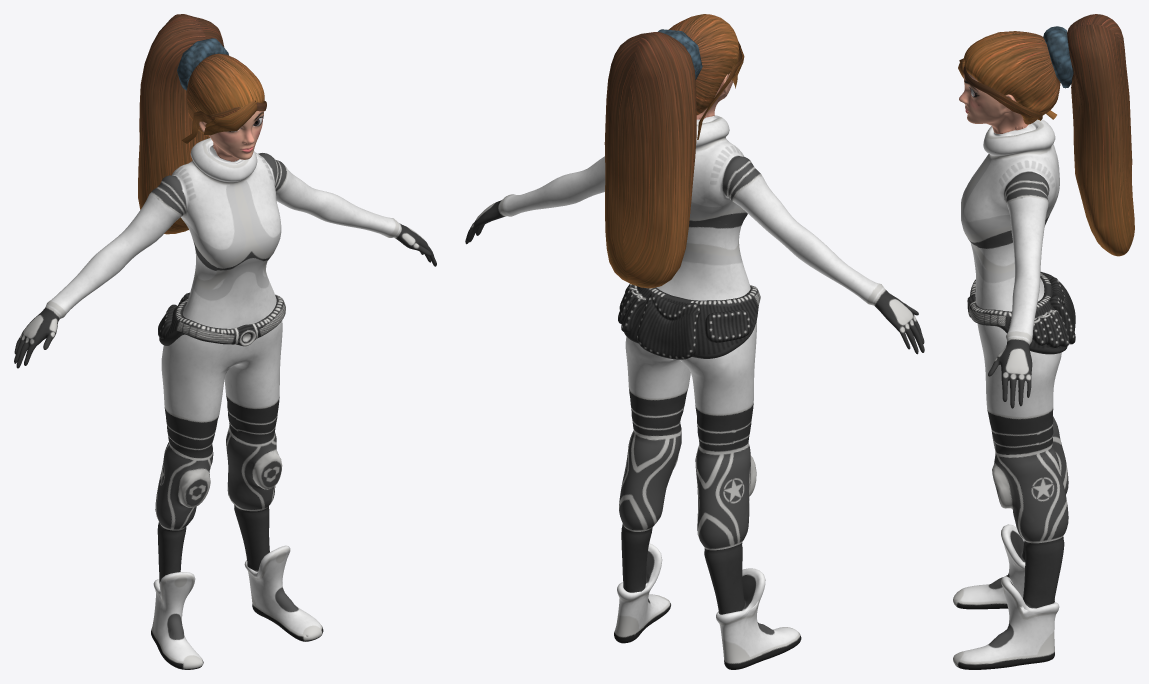
Rendered from Carol_L.fbx.
3 views of the same model, side by side, from view 1: azimuth 30°, elevation 25°; view 2: azimuth 150°, elevation 25°; view 3: azimuth 270°, elevation 25° (orthographic). The views are drawn at different scales.
Parts seen in each view (by area): view 1: Caroline.001; view 2: Caroline.001; view 3: Caroline.001.
Part boxes in pixels (x1,y1,x2,y2): Caroline.001: [14, 14, 436, 669]; Caroline.001: [465, 14, 924, 669]; Caroline.001: [953, 14, 1134, 669].
Bounding box in the file's own units: 347 × 466 × 124.
